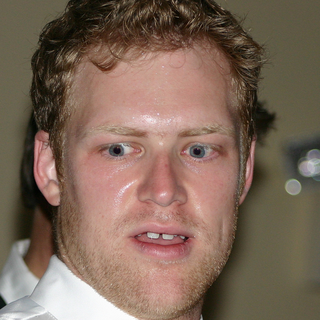eye: (93, 139, 145, 161), (176, 139, 224, 162)
